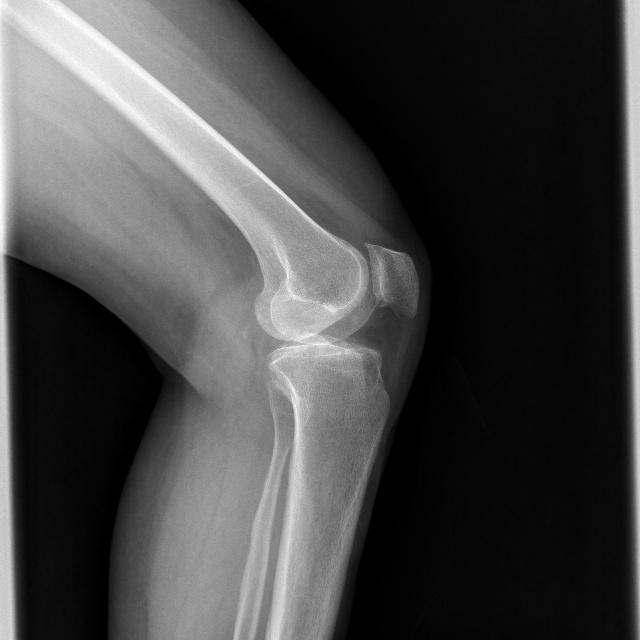Knee: (250, 238, 421, 412)
